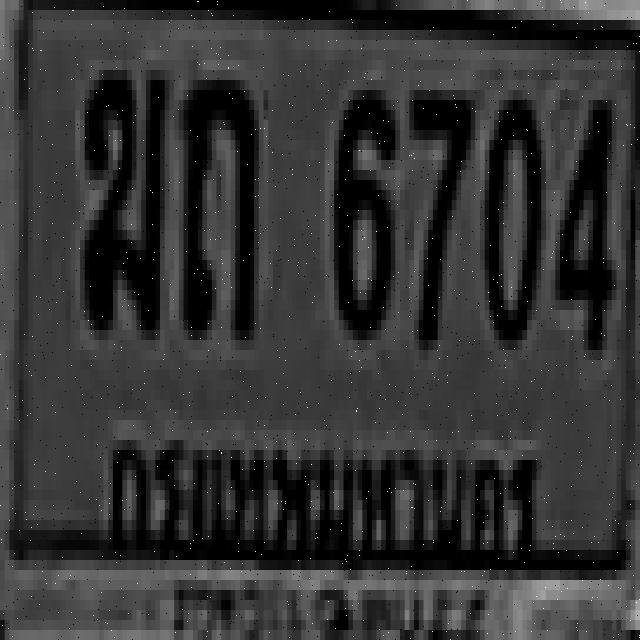0: (480, 90, 536, 340)
15KhorRaKhang: (80, 60, 160, 320)
31ThorThung: (178, 70, 254, 330)
4: (551, 90, 607, 340)
6: (330, 80, 390, 330)
7: (404, 80, 470, 340)
Bangkok: (101, 424, 555, 584)
